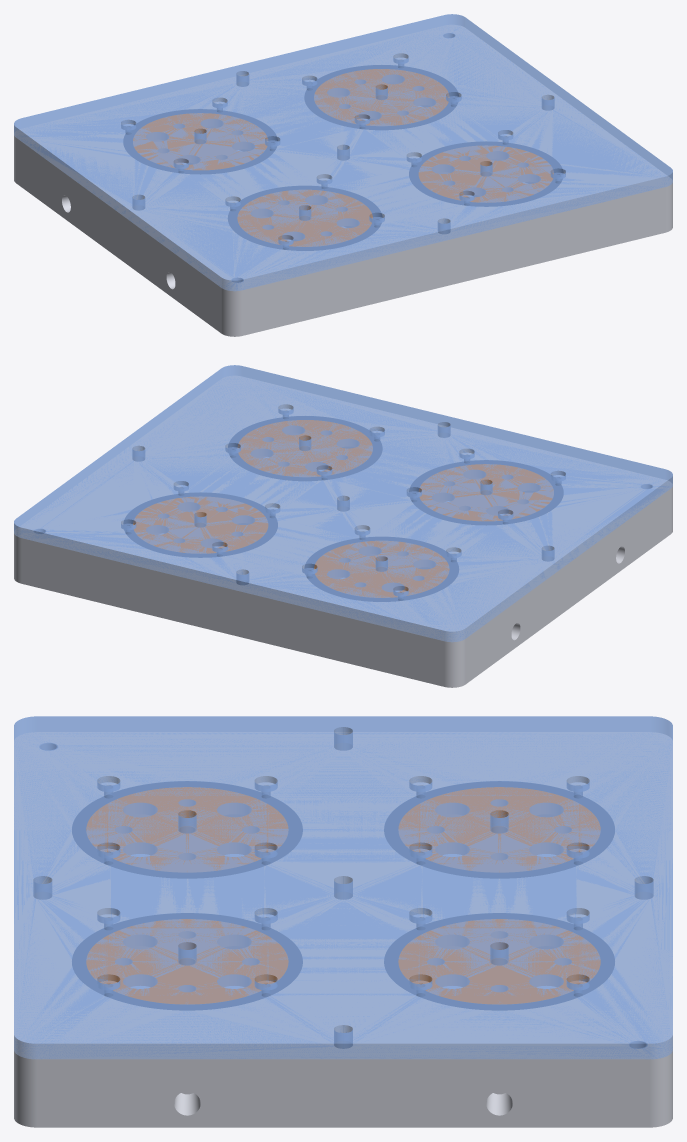
The model's file is mold.glb.
3 renders of one model, top to bottom at view 1: azimuth 30°, elevation 25°; view 2: azimuth 150°, elevation 25°; view 3: azimuth 270°, elevation 25°, orthographic. The views are drawn at different scales.
Parts seen in each view (by area): view 1: mold_lid, mold_base, mrim_3, mrim_0, mrim_1, mrim_2, silicone_3, silicone_0, silicone_2, silicone_1; view 2: mold_lid, mold_base, mrim_2, mrim_1, mrim_0, mrim_3, silicone_2, silicone_1, silicone_3, silicone_0; view 3: mold_lid, mold_base, mrim_3, mrim_2, mrim_1, mrim_0, silicone_2, silicone_3, silicone_0, silicone_1.
Boxes of the visible parts, bbox=[...] form: mold_lid: bbox=[14, 14, 672, 291]; mold_base: bbox=[14, 25, 672, 336]; mrim_3: bbox=[314, 69, 449, 125]; mrim_0: bbox=[237, 190, 372, 246]; mrim_1: bbox=[133, 113, 267, 169]; mrim_2: bbox=[419, 146, 553, 202]; silicone_3: bbox=[305, 65, 458, 129]; silicone_0: bbox=[228, 186, 381, 250]; silicone_2: bbox=[409, 142, 562, 206]; silicone_1: bbox=[124, 109, 277, 173]; mold_lid: bbox=[14, 365, 672, 642]; mold_base: bbox=[14, 376, 672, 687]; mrim_2: bbox=[238, 420, 372, 476]; mrim_1: bbox=[314, 541, 449, 597]; mrim_0: bbox=[419, 464, 553, 520]; mrim_3: bbox=[133, 497, 267, 553]; silicone_2: bbox=[228, 416, 381, 480]; silicone_1: bbox=[305, 537, 458, 601]; silicone_3: bbox=[124, 493, 277, 557]; silicone_0: bbox=[409, 460, 562, 524]; mold_lid: bbox=[14, 716, 672, 1059]; mold_base: bbox=[14, 732, 672, 1127]; mrim_3: bbox=[398, 919, 600, 1004]; mrim_2: bbox=[86, 919, 288, 1004]; mrim_1: bbox=[398, 787, 600, 872]; mrim_0: bbox=[86, 787, 287, 871]; silicone_2: bbox=[72, 913, 302, 1009]; silicone_3: bbox=[384, 913, 614, 1009]; silicone_0: bbox=[72, 781, 302, 877]; silicone_1: bbox=[384, 781, 614, 877].
Size of the model in its own units: 134 by 16 by 114.
